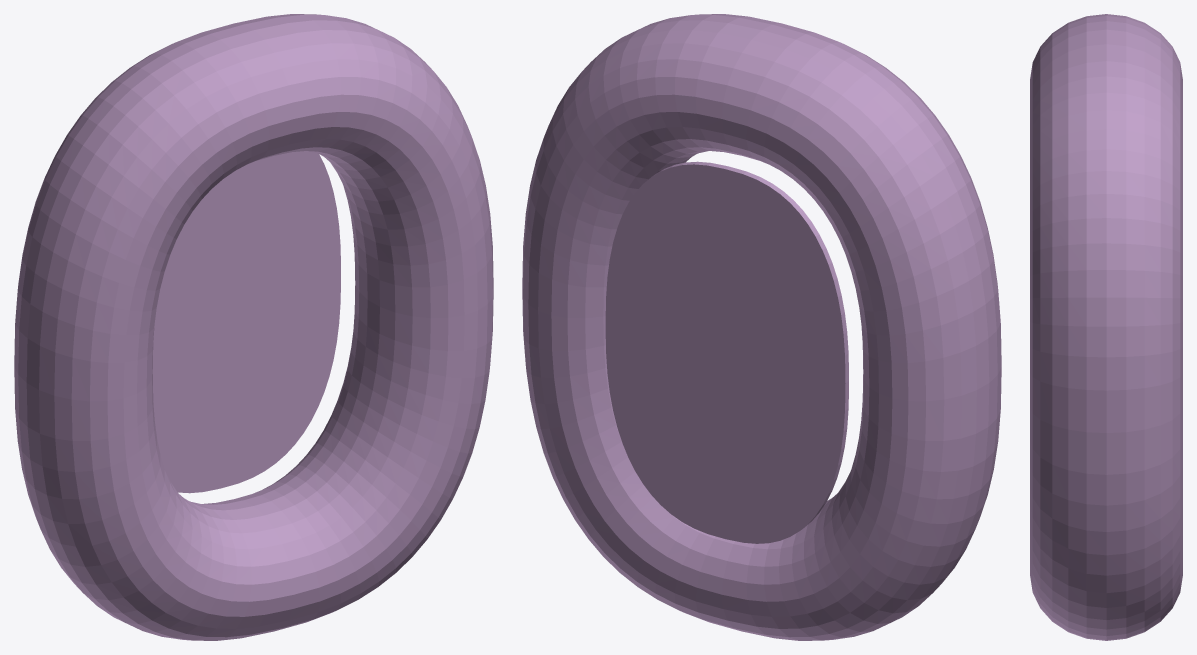
The picture shows the model from 3 angles, left to right: view 1: azimuth 30°, elevation 25°; view 2: azimuth 150°, elevation 25°; view 3: azimuth 270°, elevation 25°; orthographic projection. The views are drawn at different scales.
Parts seen in each view (by area): view 1: geometry_0; view 2: geometry_0; view 3: geometry_0.
Part boxes in pixels (bbox=[...]): geometry_0: bbox=[14, 14, 493, 640]; geometry_0: bbox=[522, 14, 1001, 640]; geometry_0: bbox=[1030, 14, 1182, 640].
Size of the model in its own units: 72 by 90 by 22.
